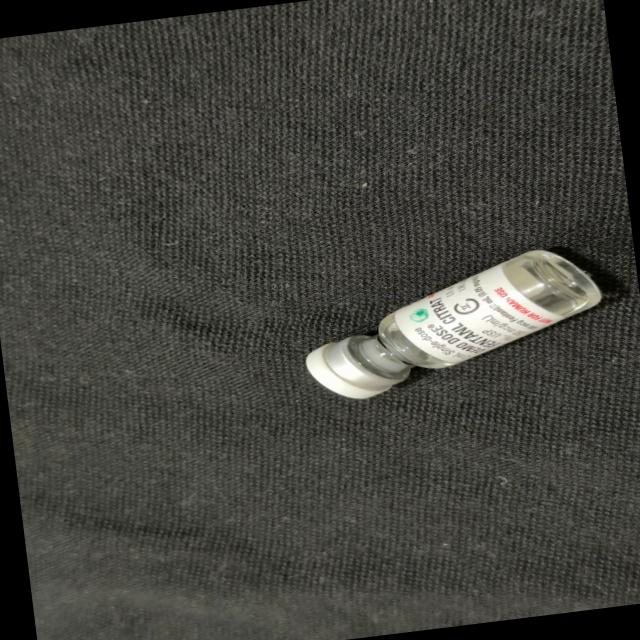fentanl_citrat: (300, 244, 607, 402)
